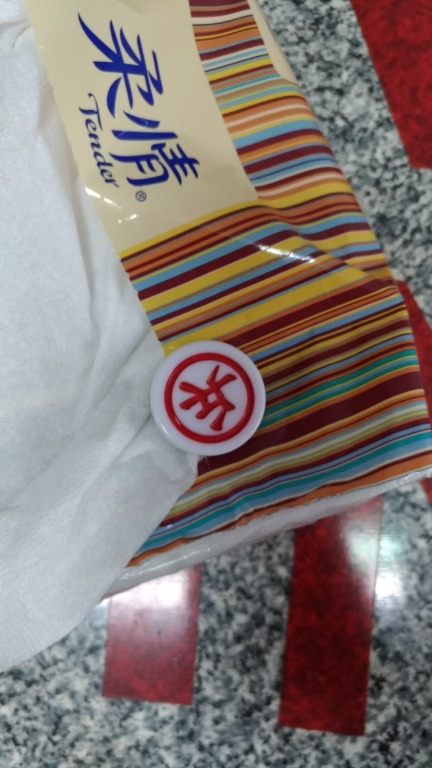r-pawn: (138, 333, 284, 460)
